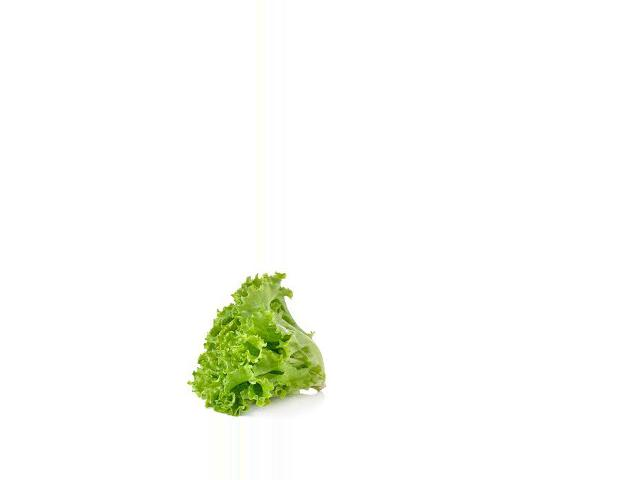lettuce: (183, 272, 333, 413)
